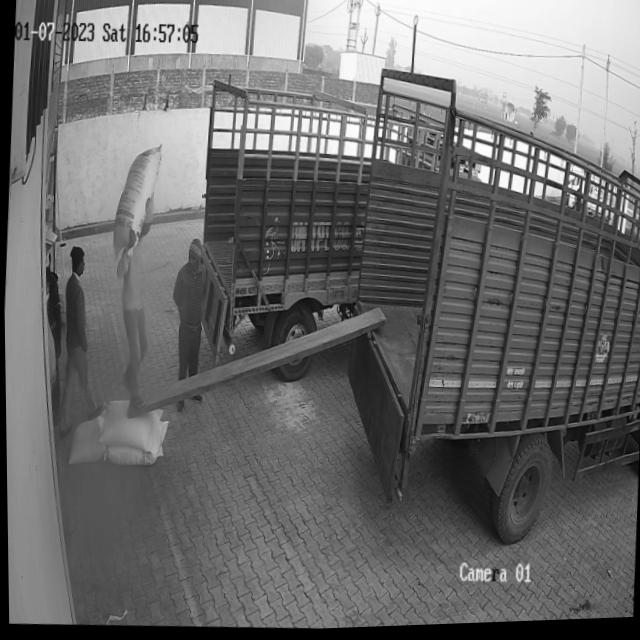sack: (110, 143, 162, 260), (100, 417, 167, 468), (98, 406, 161, 453), (65, 414, 107, 466)
